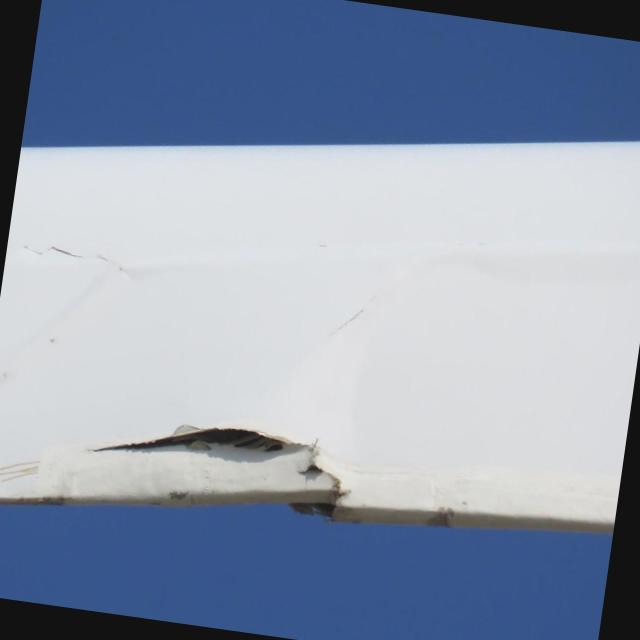crack: (82, 399, 358, 528)
